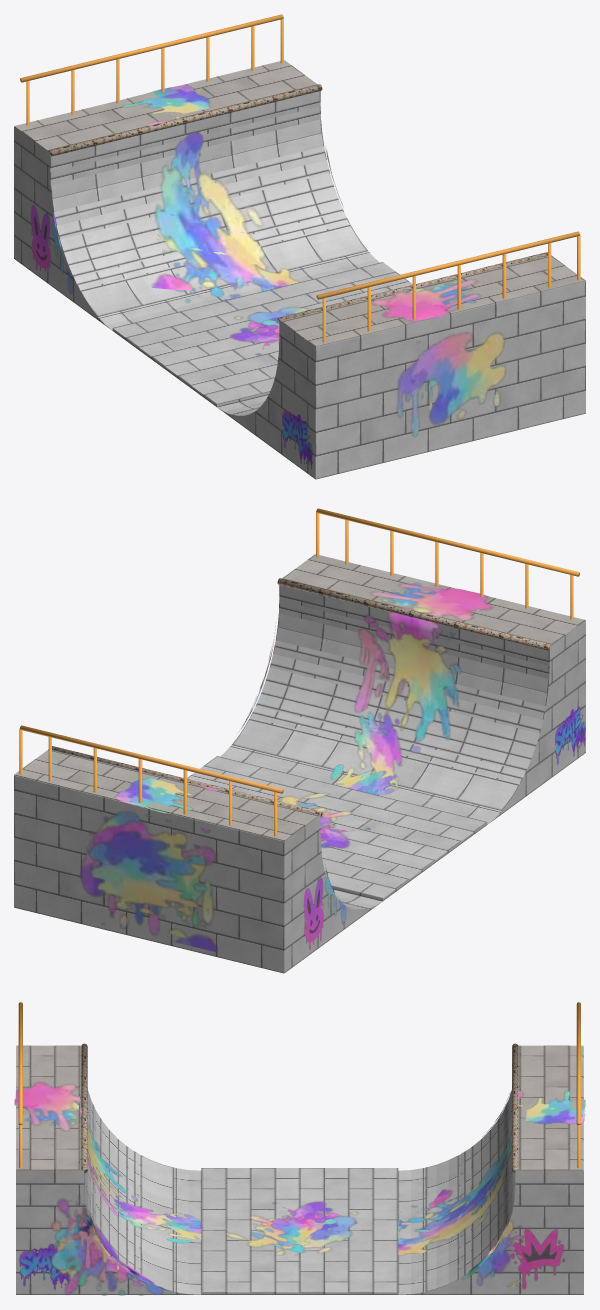
The model's file is HalfPipe.glb.
3 renders of one model, top to bottom at view 1: azimuth 30°, elevation 25°; view 2: azimuth 150°, elevation 25°; view 3: azimuth 270°, elevation 25°, orthographic. The views are drawn at different scales.
Visible parts, largest first — view 1: HalfPipe_A, HalfPipe_Paint, HalfPipe_ADeck, HalfPipe_ARail, HalfPipe_ACoping, HalfPipe_A_GfxL; view 2: HalfPipe_A, HalfPipe_Paint, HalfPipe_ADeck, HalfPipe_ARail, HalfPipe_ACoping, HalfPipe_A_GfxL; view 3: HalfPipe_A, HalfPipe_Paint, HalfPipe_ADeck, HalfPipe_A_GfxL, HalfPipe_ACoping, HalfPipe_ARail.
Part boxes in pixels (<box>): HalfPipe_A: <box>14,91,585,479</box>; HalfPipe_Paint: <box>51,84,506,437</box>; HalfPipe_ADeck: <box>14,60,585,347</box>; HalfPipe_ARail: <box>20,14,580,342</box>; HalfPipe_ACoping: <box>49,84,547,323</box>; HalfPipe_A_GfxL: <box>31,204,312,468</box>; HalfPipe_A: <box>14,585,585,973</box>; HalfPipe_Paint: <box>80,582,493,952</box>; HalfPipe_ADeck: <box>14,554,585,841</box>; HalfPipe_ARail: <box>19,508,579,836</box>; HalfPipe_ACoping: <box>52,578,550,817</box>; HalfPipe_A_GfxL: <box>304,707,585,949</box>; HalfPipe_A: <box>16,1046,583,1294</box>; HalfPipe_Paint: <box>14,1081,585,1295</box>; HalfPipe_ADeck: <box>16,1045,583,1170</box>; HalfPipe_A_GfxL: <box>19,1228,565,1289</box>; HalfPipe_ACoping: <box>81,1043,518,1173</box>; HalfPipe_ARail: <box>18,1002,580,1168</box>.
Bounding box in the file's own units: 6.08 × 3.88 × 11.68.
Materials: 5 (4 with a texture image).
